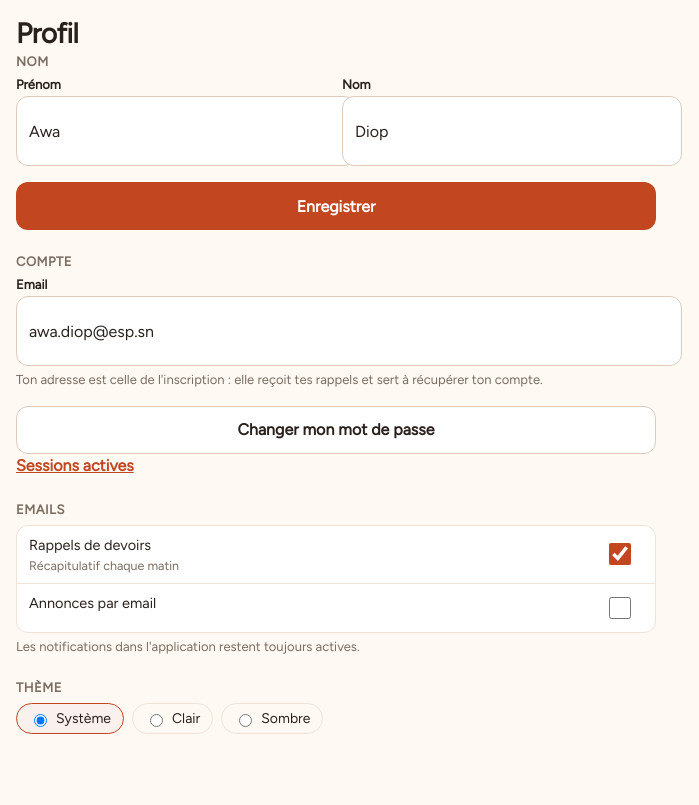
Scenario: profil (P10, M14) › enregistre le nom et confirme sans quitter l’écran
The image size is (699, 805).
Expected: the heading "Profil" is shown, [16,16,78,50]
Step 1. Replace the text in the field labelled "Prénom" with "Awaïcha" → (186, 131), box [16,96,356,166]
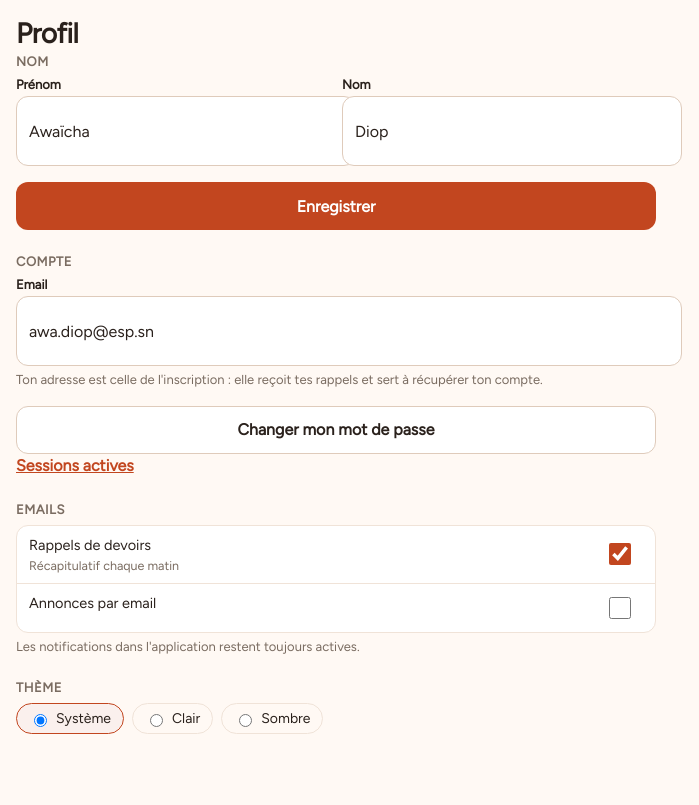
Step 2. Click the button "Enregistrer" → (336, 206), box [16,182,656,230]
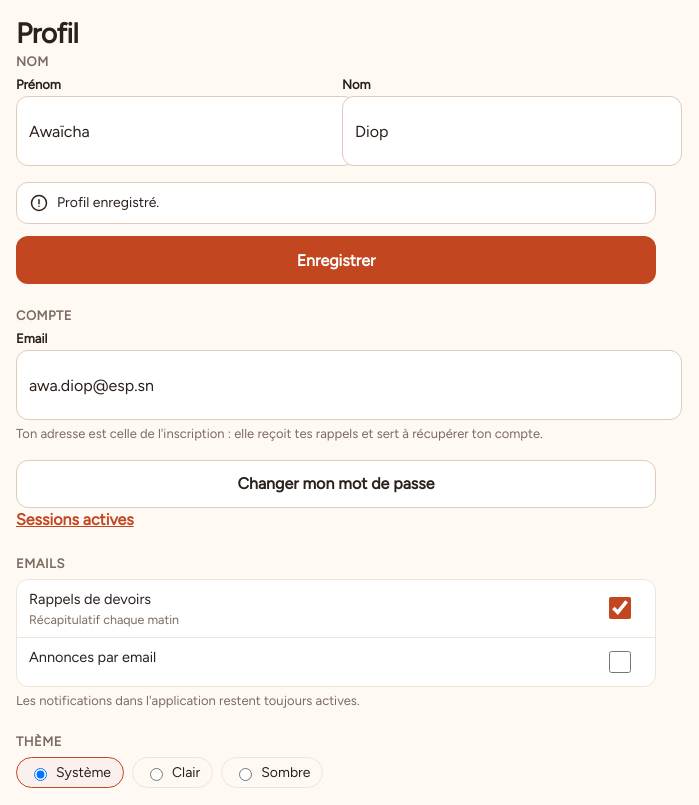
Now the text "Profil enregistré." is shown, box [57,193,159,213]
